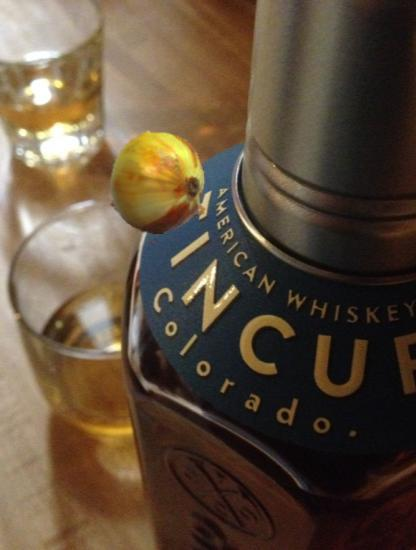Onion: (107, 130, 212, 235)
